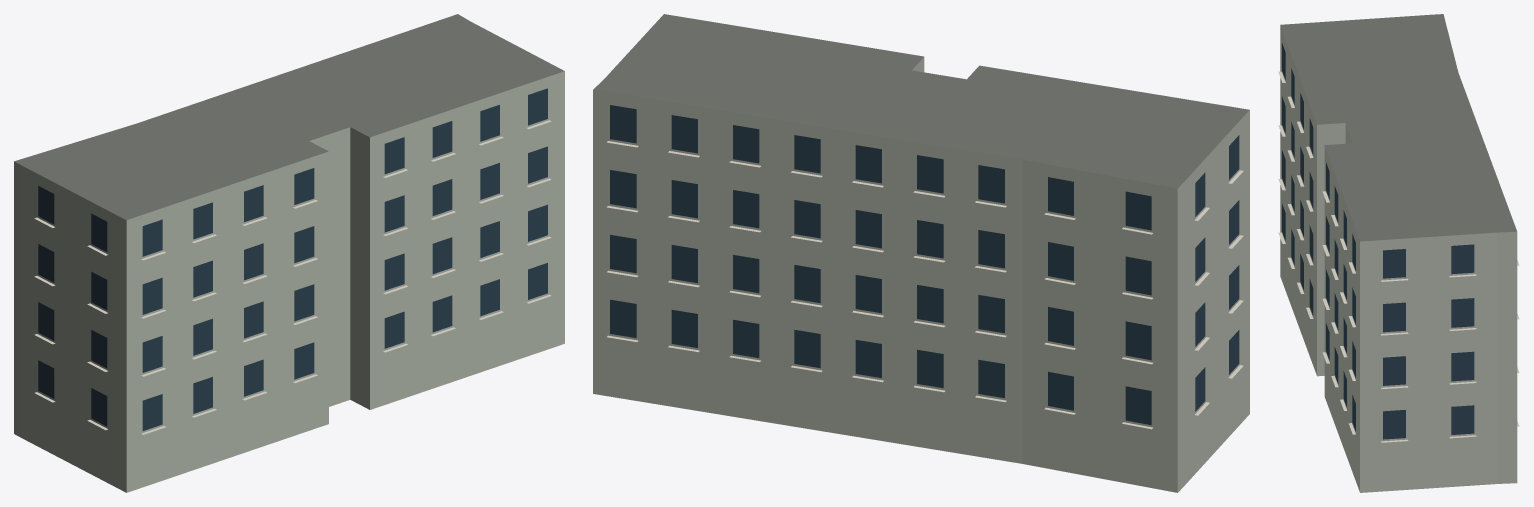
3 renders of one model, left to right at view 1: azimuth 30°, elevation 25°; view 2: azimuth 150°, elevation 25°; view 3: azimuth 270°, elevation 25°, orthographic. The views are drawn at different scales.
Visible parts, largest first — view 1: Footprint 0, Inferred window bays, Window sills; view 2: Footprint 0, Inferred window bays, Window sills; view 3: Footprint 0, Inferred window bays, Window sills.
Part boxes in pixels (left/top/right/bottom): Footprint 0: left=14, top=14, right=564, bottom=492; Inferred window bays: left=38, top=88, right=547, bottom=430; Window sills: left=34, top=120, right=551, bottom=434; Footprint 0: left=593, top=14, right=1249, bottom=492; Inferred window bays: left=610, top=105, right=1239, bottom=425; Window sills: left=607, top=141, right=1243, bottom=429; Footprint 0: left=1280, top=14, right=1517, bottom=492; Inferred window bays: left=1282, top=43, right=1474, bottom=439; Window sills: left=1278, top=71, right=1519, bottom=442.
Size of the model in its own units: 28.54 by 14.68 by 12.76.
